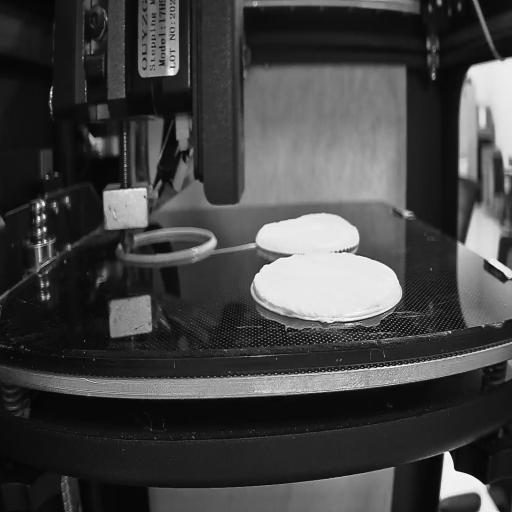over_extrusion: (251, 274, 266, 304)
